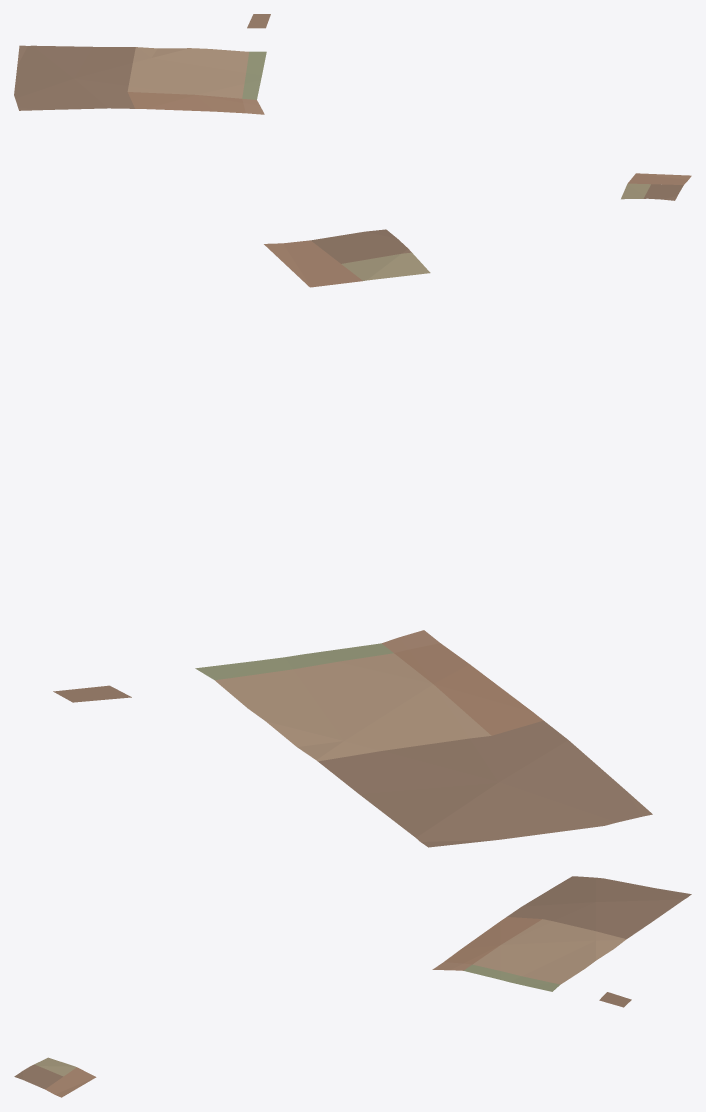
The model's file is farm_9_3_soil.glb.
3 views of the same model, one above another, from view 1: azimuth 30°, elevation 25°; view 2: azimuth 150°, elevation 25°; view 3: azimuth 270°, elevation 25° (orthographic). The views are drawn at different scales.
Parts seen in each view (by area): view 1: geometry_0; view 2: geometry_0; view 3: geometry_0.
Boxes of the visible parts, left/top/right/bottom form: geometry_0: left=14, top=14, right=691, bottom=200; geometry_0: left=53, top=229, right=652, bottom=847; geometry_0: left=14, top=876, right=691, bottom=1097.
Size of the model in its own units: 448 by 12.24 by 568.
